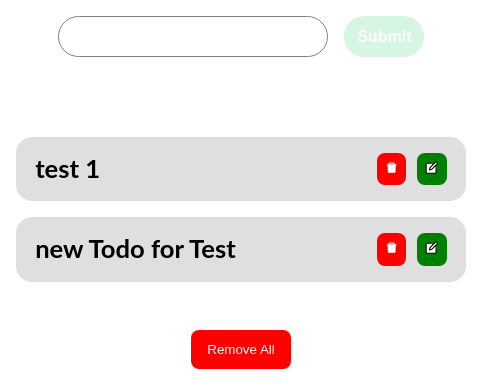
Test: todo functions › edit old todo
Expected: the element with id "5000" is shown, [16,137,466,201]
Click the 1st button with test id "edit": (432, 169) [418,153,447,185]
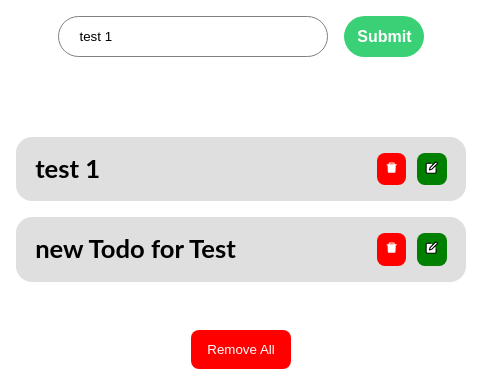
Expected: the field with test id "input" holds "test 1"
Replace the text in the field with test id "input" with "new Job todo for you": (193, 36) [58,16,328,57]
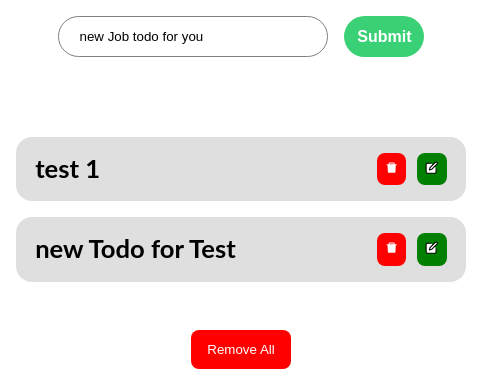
Click the button "Submit": (384, 36) [344,16,424,57]
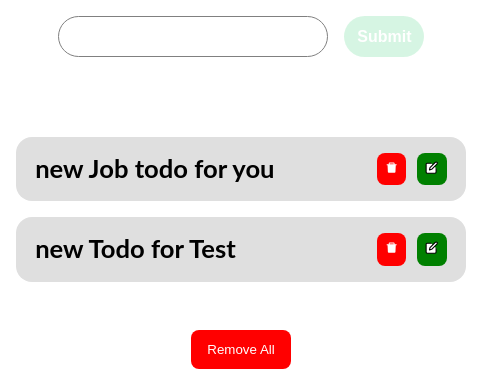
Expected: the heading "new Job todo for you" is shown, [35,153,275,185]
Expected: the field with test id "input" is empty, [58,16,328,57]
